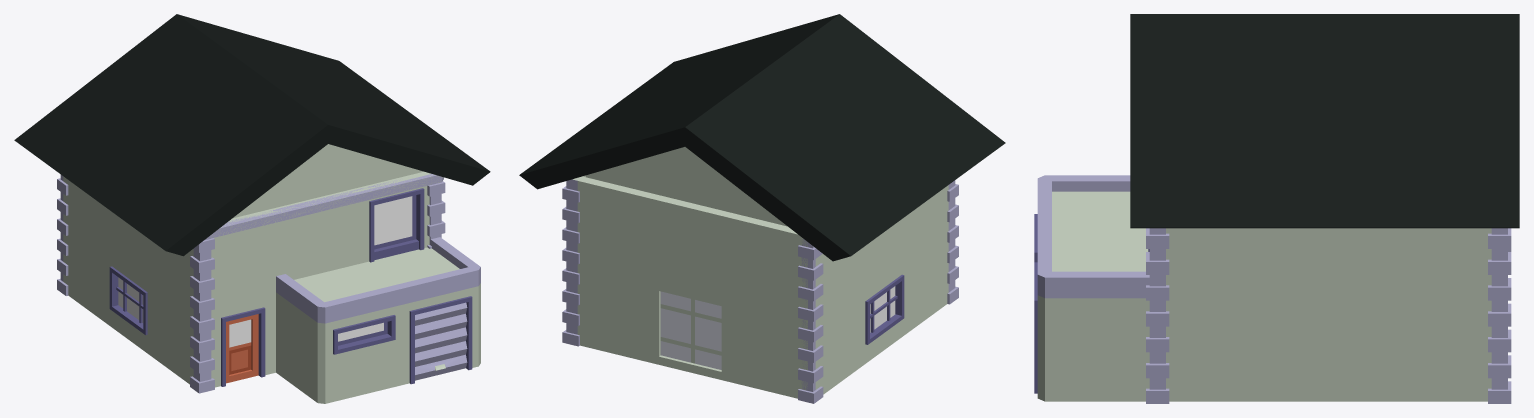
The model's file is House 2.dae.
3 views of the same model, side by side, from view 1: azimuth 30°, elevation 25°; view 2: azimuth 150°, elevation 25°; view 3: azimuth 270°, elevation 25° (orthographic). The views are drawn at different scales.
Parts seen in each view (by area): view 1: roof, wall (×8), roof_flatCorner (×2), window_garage, doorway_wideGarageRoll, quoin_detailed (×4), doorway_doorWoodWindow, window_large, window_decorativeLarge, cornice_shallow (×3); view 2: roof, wall (×10), quoin_detailed (×5), wall_window, window_decorativeLarge; view 3: roof, wall (×7), roof_flatCorner (×2), quoin_detailed (×4), doorway_wideGarageRoll.
Boxes of the visible parts, x1,y1,x2,y2 form: roof: (14,14,490,256); wall (×8): (63,176,357,403); roof_flatCorner (×2): (276,237,480,323); window_garage: (325,305,401,403); doorway_wideGarageRoll: (402,286,478,384); quoin_detailed (×4): (57,174,445,393); doorway_doorWoodWindow: (211,292,275,387); window_large: (350,171,430,264); window_decorativeLarge: (107,244,151,356); cornice_shallow (×3): (205,174,443,239); roof: (519,14,1005,261); wall (×10): (573,176,948,398); quoin_detailed (×5): (562,179,958,403); wall_window: (651,281,729,381); window_decorativeLarge: (861,252,906,366); roof: (1130,14,1519,228); wall (×7): (1037,228,1491,401); roof_flatCorner (×2): (1037,175,1149,298); quoin_detailed (×4): (1146,228,1511,403); doorway_wideGarageRoll: (1034,262,1037,393).
Size of the model in its own units: 4.23 by 3.03 by 4.26.
